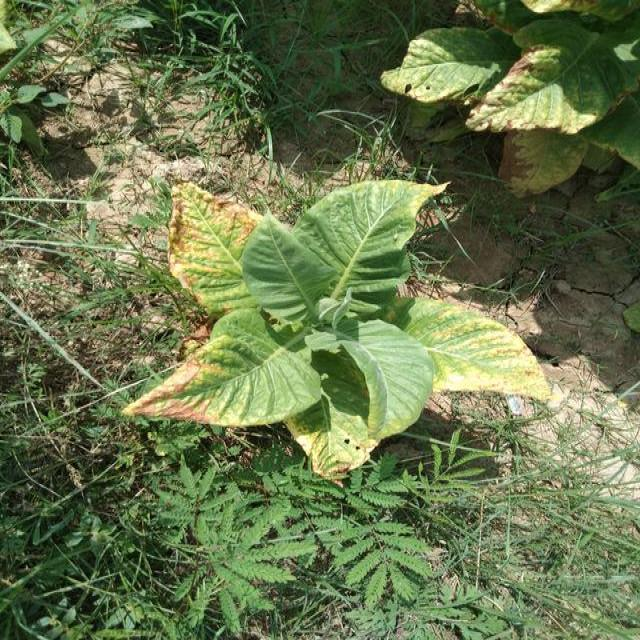crop: (142, 164, 551, 466), (401, 0, 640, 197)
